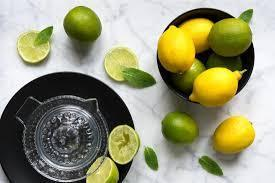lemon: (189, 66, 242, 108), (158, 25, 194, 74), (213, 116, 255, 154), (180, 18, 214, 54)
